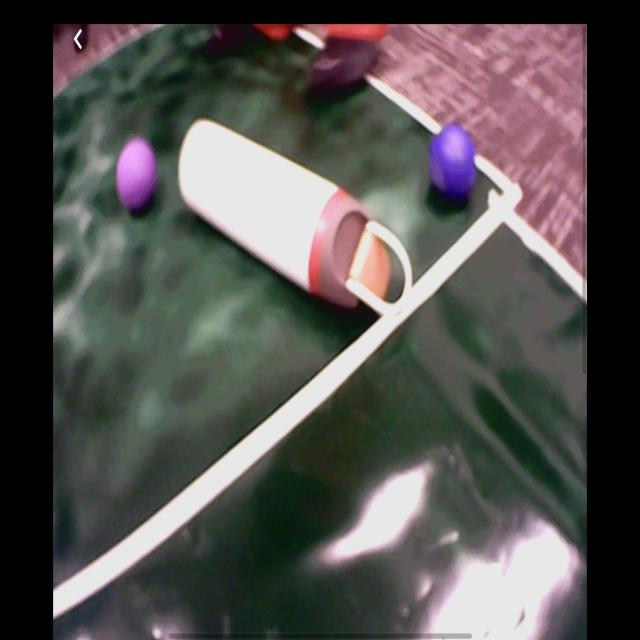ball: (429, 127, 475, 203), (117, 140, 159, 213)
